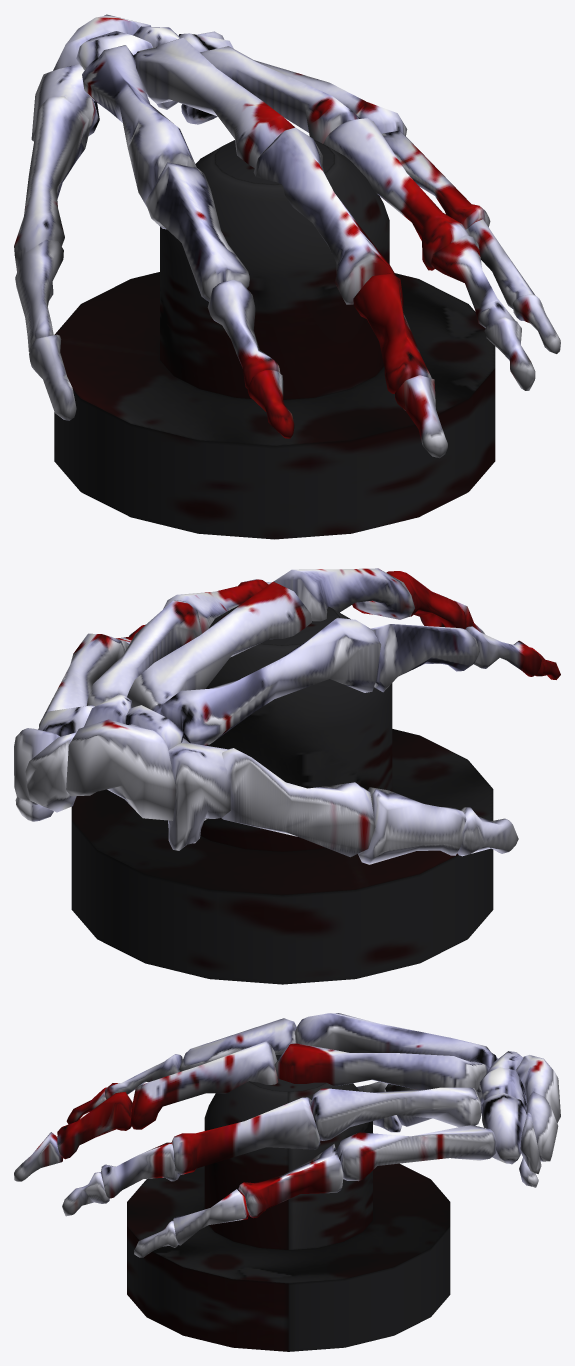
File: paddle.FBX
3 views of the same model, one above another, from view 1: azimuth 30°, elevation 25°; view 2: azimuth 150°, elevation 25°; view 3: azimuth 270°, elevation 25° (orthographic). The views are drawn at different scales.
Parts seen in each view (by area): view 1: paddle; view 2: paddle; view 3: paddle.
Boxes of the visible parts, x1,y1,x2,y2 form: paddle: [14, 14, 560, 539]; paddle: [14, 568, 560, 984]; paddle: [14, 1013, 560, 1351].
Size of the model in its own units: 0.1248 by 0.0922 by 0.1906.
Materials: 1 (1 with a texture image).
